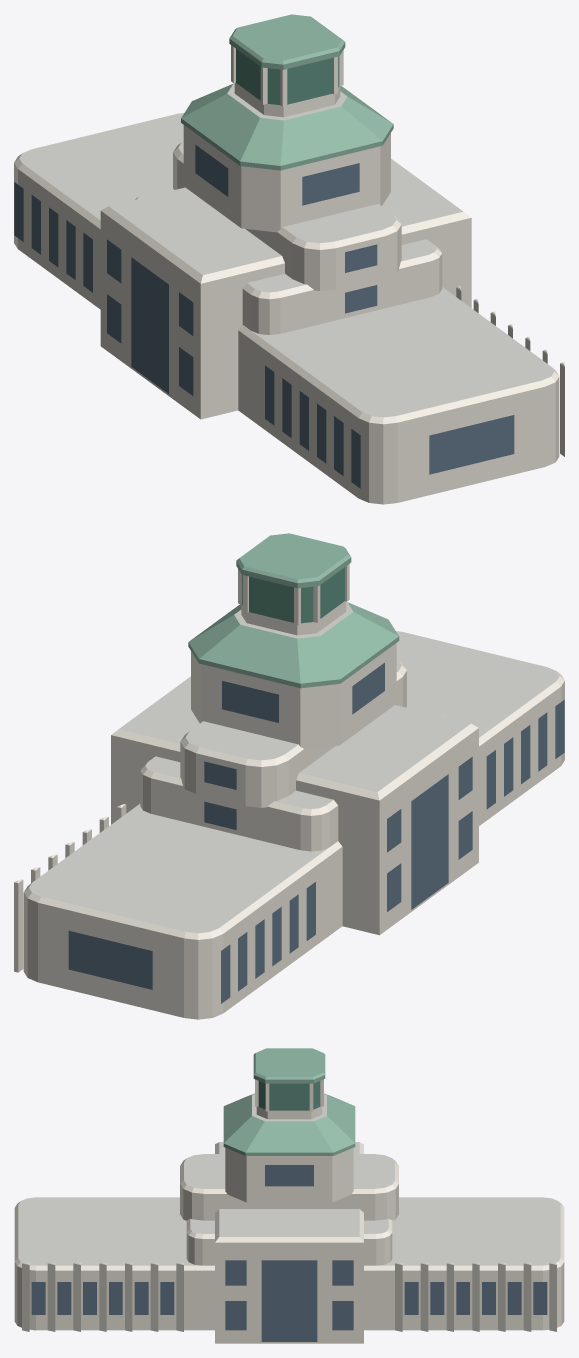
File: hou-hobby-1940-air-terminal.glb
3 views of the same model, one above another, from view 1: azimuth 30°, elevation 25°; view 2: azimuth 150°, elevation 25°; view 3: azimuth 270°, elevation 25° (orthographic). The views are drawn at different scales.
Parts seen in each view (by area): view 1: 1940 Air Terminal Museum; view 2: 1940 Air Terminal Museum; view 3: 1940 Air Terminal Museum.
Part boxes in pixels (x1,y1,x2,y2): 1940 Air Terminal Museum: (14,14,564,504); 1940 Air Terminal Museum: (14,533,564,1019); 1940 Air Terminal Museum: (14,1048,564,1343).
Bounding box in the file's own units: 21.8 × 23.9 × 51.4.
